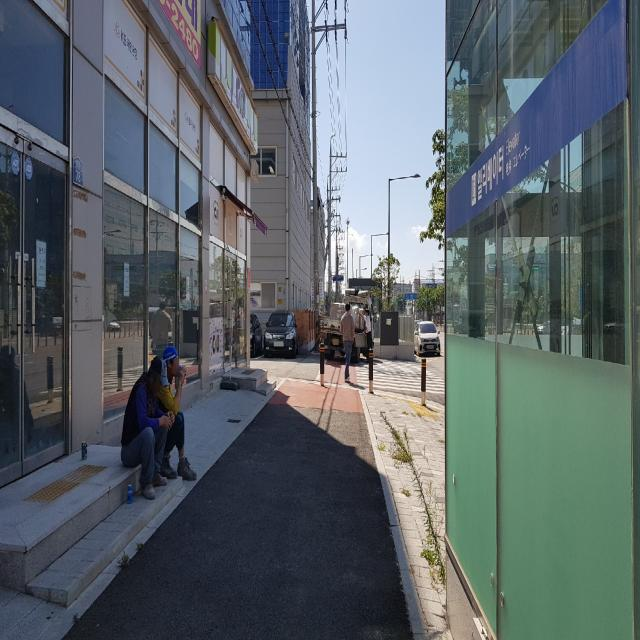횡단보도: (354, 358, 445, 395)
